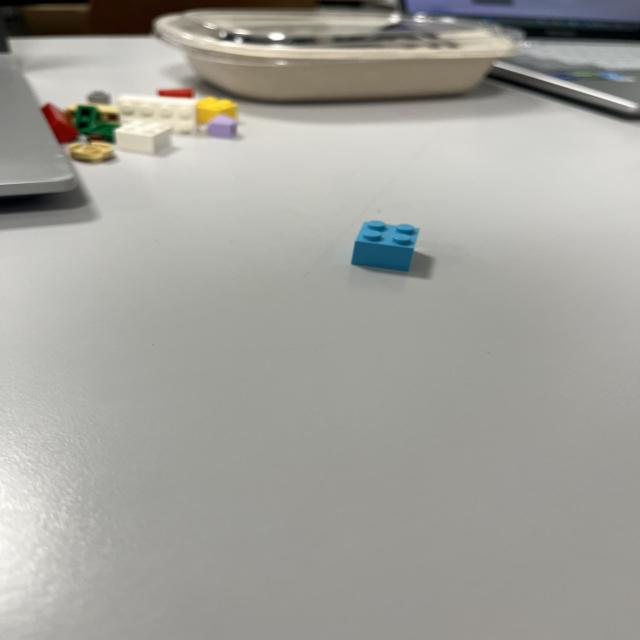C2x2x1: (350, 219, 421, 272)
